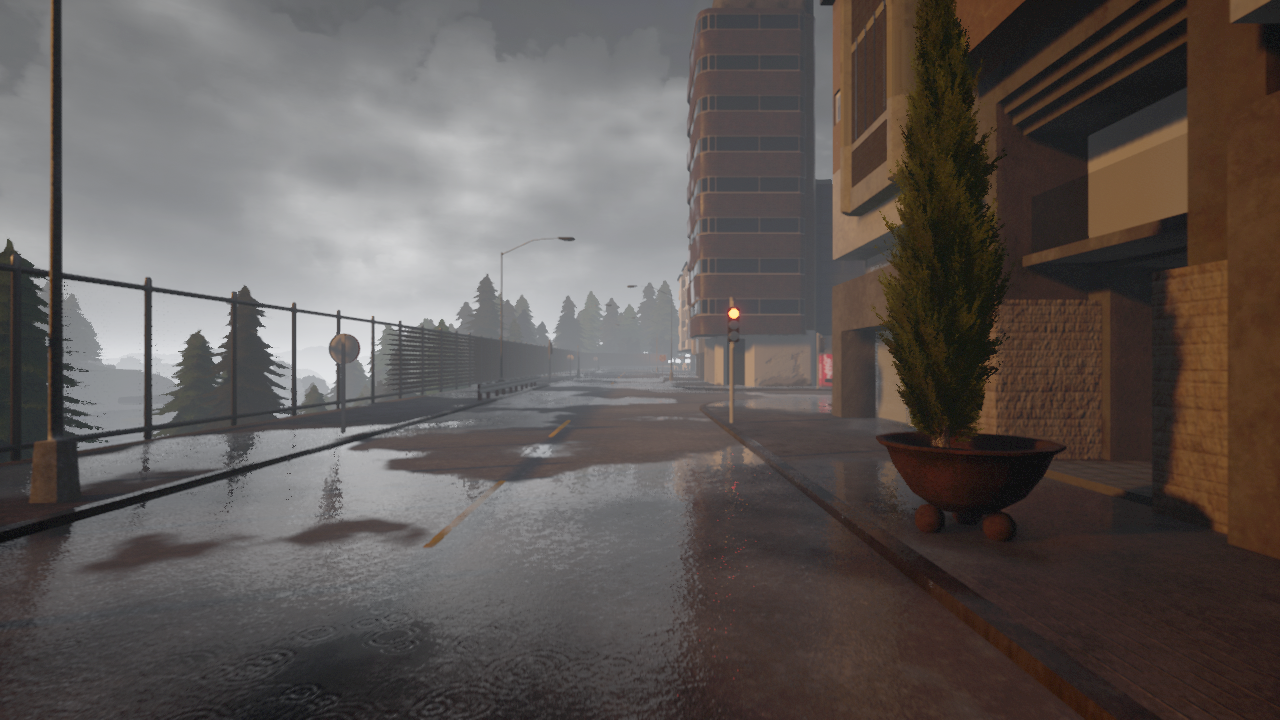red: (726, 306, 740, 345)
